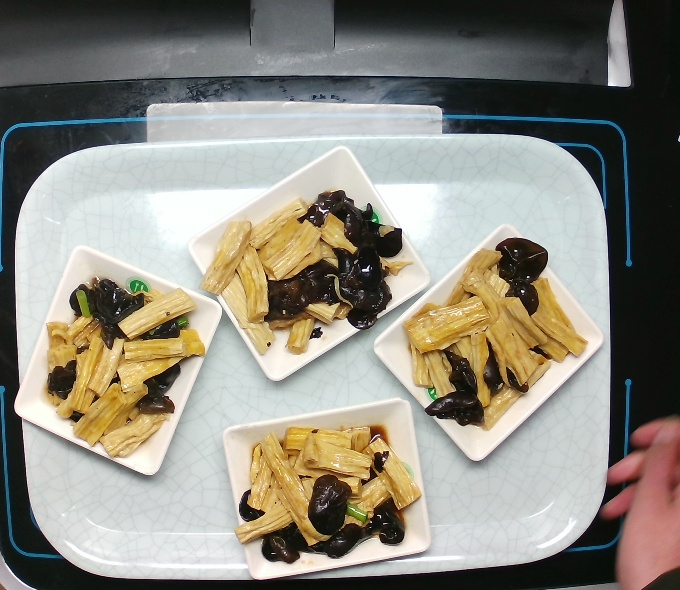wcq-MuErFuZhu: (192, 182, 419, 361), (396, 234, 588, 430), (228, 412, 425, 568), (39, 274, 202, 460)
